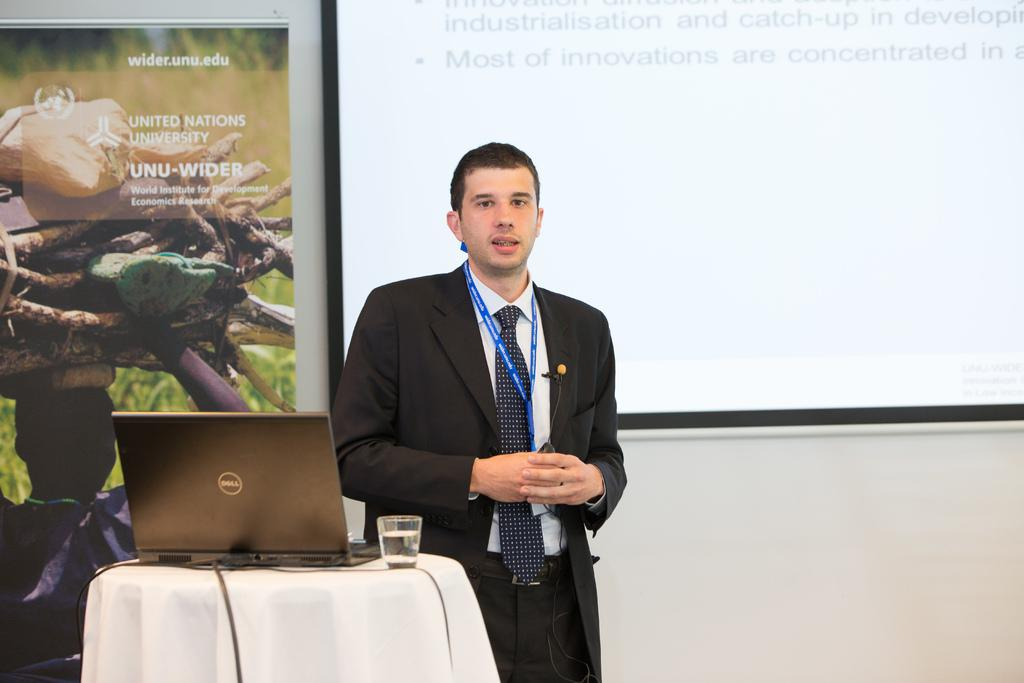Laptop: (106, 406, 381, 571)
